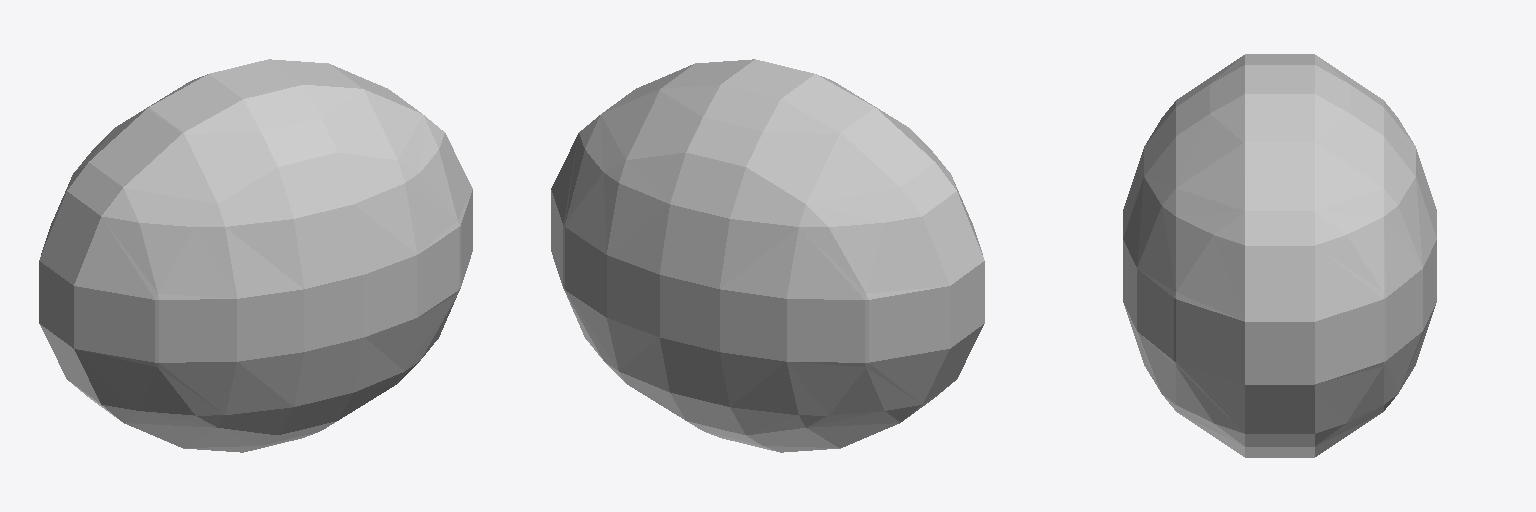
The model's file is Pine_Tree.obj.
3 views of the same model, side by side, from view 1: azimuth 30°, elevation 25°; view 2: azimuth 150°, elevation 25°; view 3: azimuth 270°, elevation 25° (orthographic).
Parts seen in each view (by area): view 1: Mball_Meta; view 2: Mball_Meta; view 3: Mball_Meta.
Part boxes in pixels (x1,y1,x2,y2): Mball_Meta: (39,59,472,452); Mball_Meta: (551,59,984,452); Mball_Meta: (1123,54,1436,457).
Size of the model in its own units: 0.2661 by 0.2252 by 0.1811.